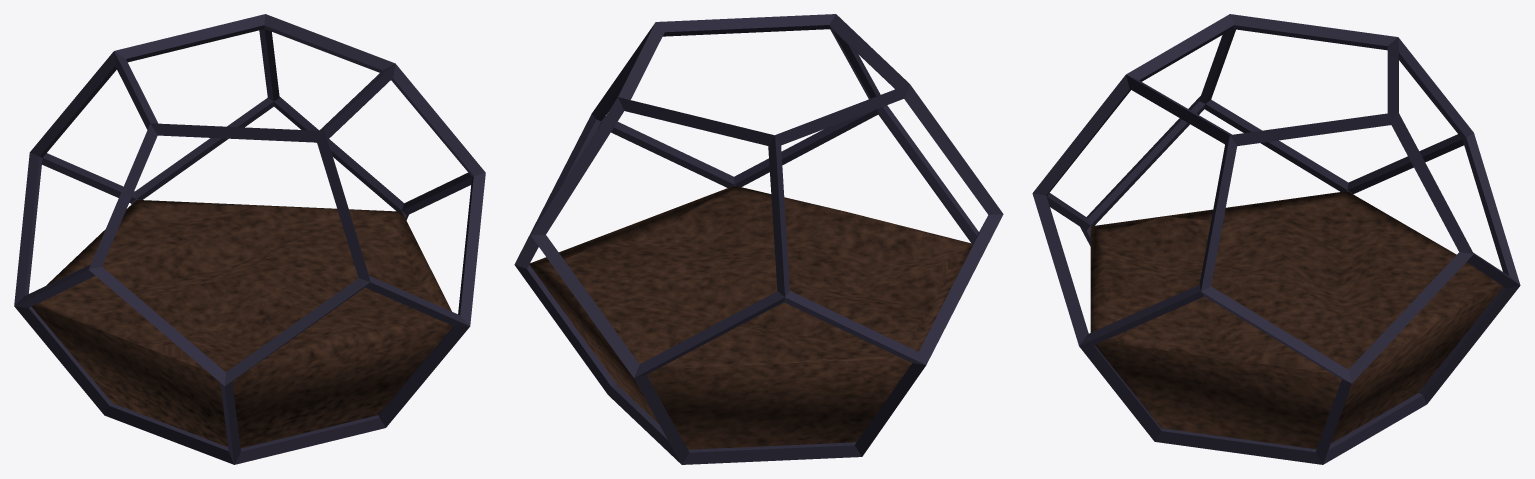
The model's file is GlassDome_body.fbx.
The picture shows the model from 3 angles, left to right: view 1: azimuth 30°, elevation 25°; view 2: azimuth 150°, elevation 25°; view 3: azimuth 270°, elevation 25°; orthographic projection. The views are drawn at different scales.
Visible parts, largest first — view 1: Soil; view 2: Soil; view 3: Soil.
Boxes of the visible parts, left/top/right/bottom form: Soil: left=14, top=14, right=485, bottom=464; Soil: left=514, top=14, right=1003, bottom=464; Soil: left=1032, top=14, right=1520, bottom=464.
Bounding box in the file's own units: 3.17 × 2.49 × 3.33.
Materials: 1 (1 with a texture image).
